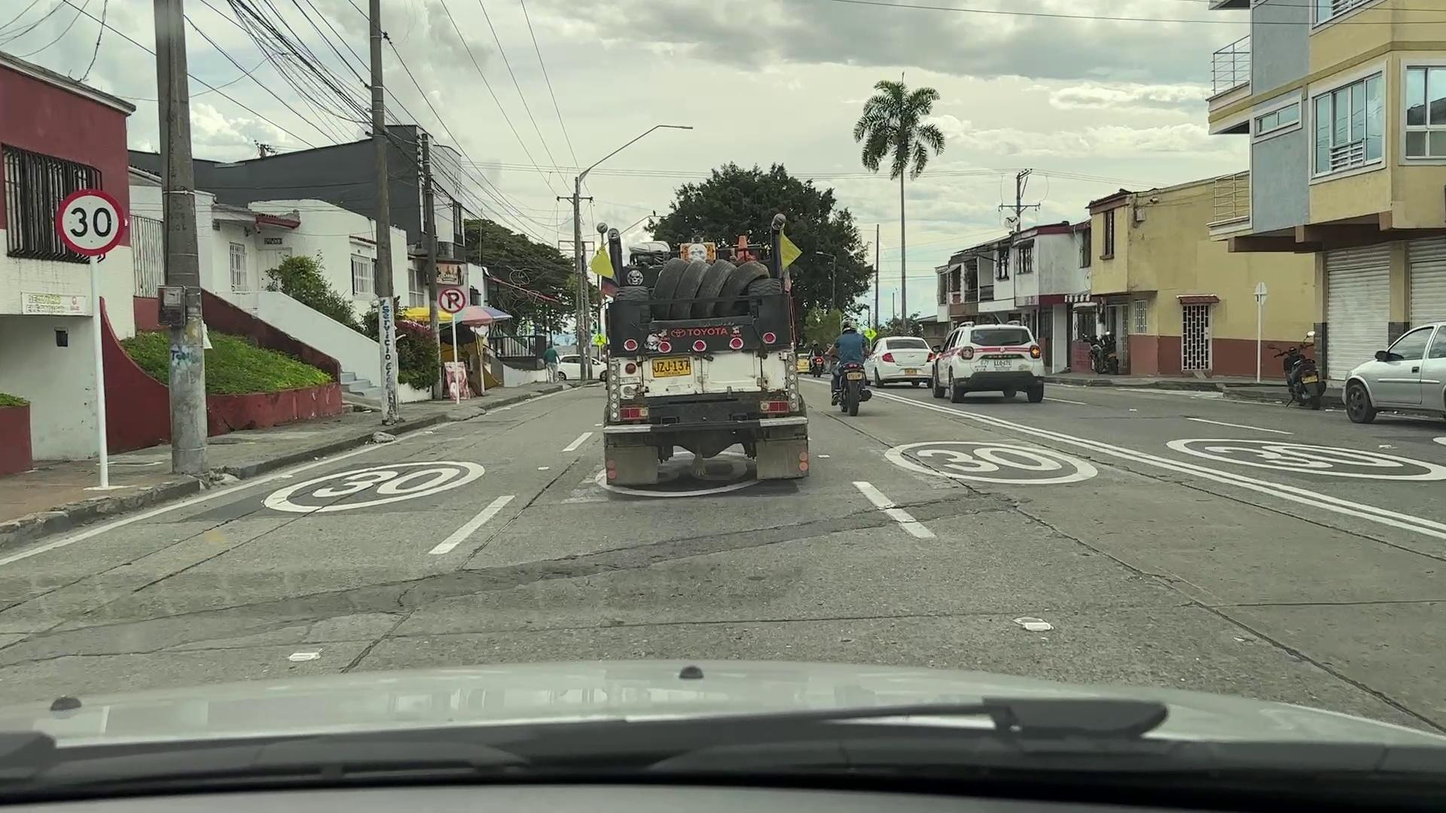bache: (44, 491, 1020, 655)
